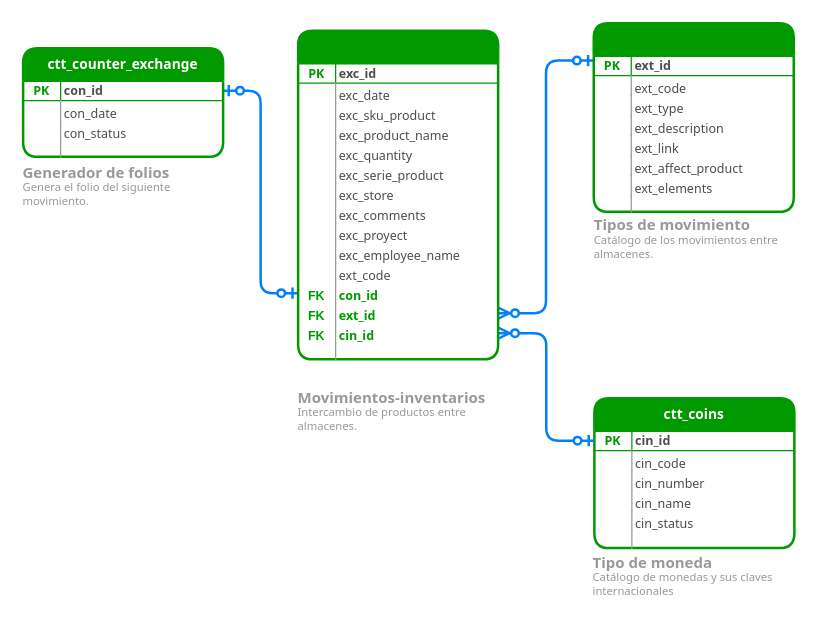
The diagram is 816 pixels wide and 628 high, and some of its shapes have lost their labels. Each missing label, with the box of its shape:
ctt_store_exchange: (296, 29, 499, 360)
ctt_type_exchange: (592, 21, 794, 212)
